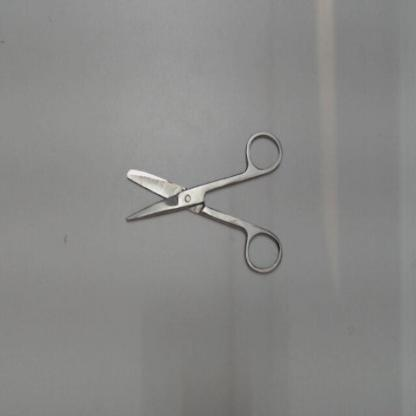Dressing Scissors: (114, 122, 290, 284)
